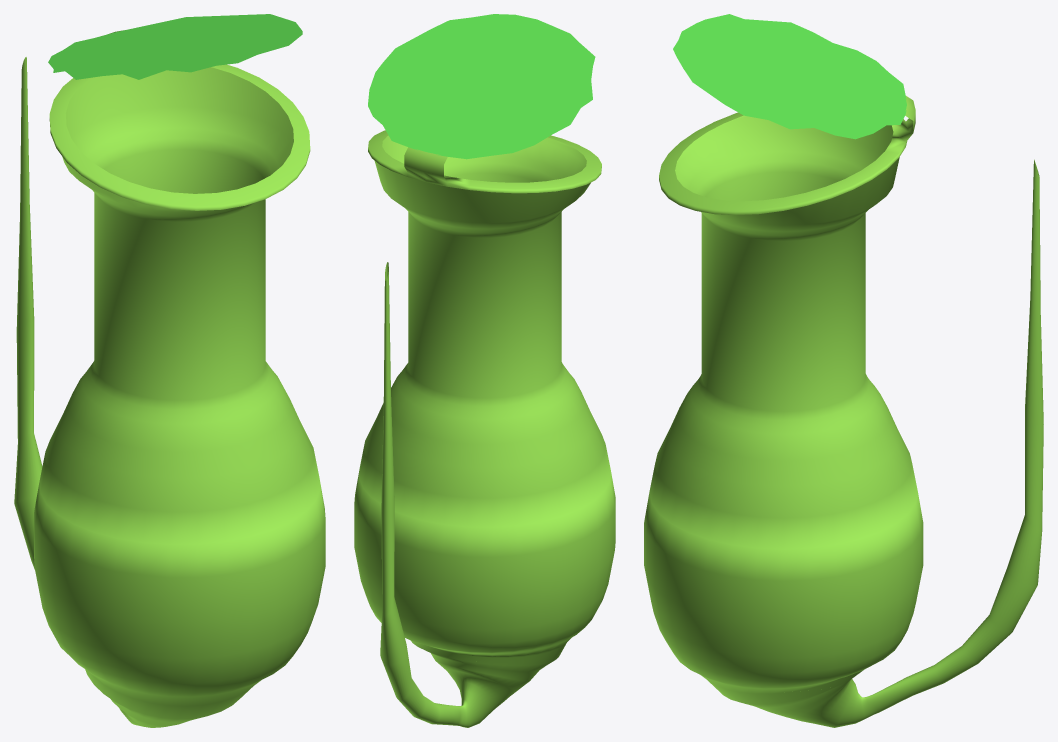
Rendered from Pitcher.gltf.
3 renders of one model, left to right at view 1: azimuth 30°, elevation 25°; view 2: azimuth 150°, elevation 25°; view 3: azimuth 270°, elevation 25°, orthographic. The views are drawn at different scales.
Parts seen in each view (by area): view 1: Cylinder, Circle; view 2: Cylinder, Circle; view 3: Cylinder, Circle.
Part boxes in pixels (box(x1,y1,x2,y2)): Cylinder: box(14, 30, 325, 727); Circle: box(48, 14, 302, 79); Cylinder: box(354, 130, 615, 727); Circle: box(368, 14, 595, 159); Cylinder: box(644, 96, 1043, 727); Circle: box(673, 14, 906, 139).
Bounding box in the file's own units: 2.88 × 7.83 × 4.12.
